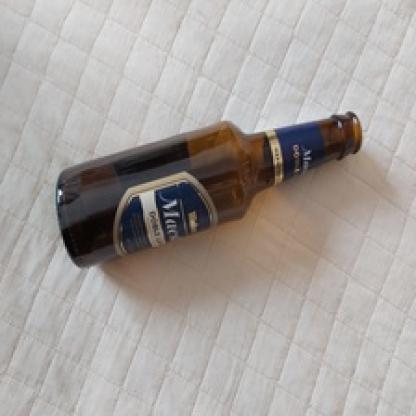Can: (62, 113, 371, 257)
